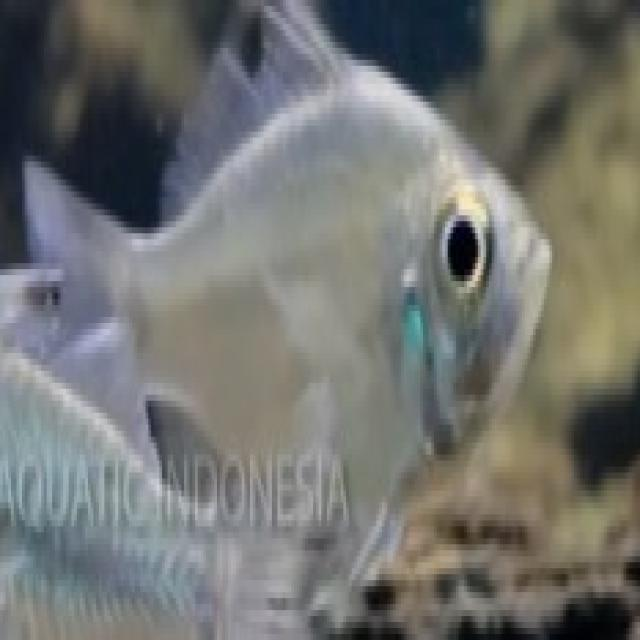Glass-Perchlet: (5, 0, 566, 573)
